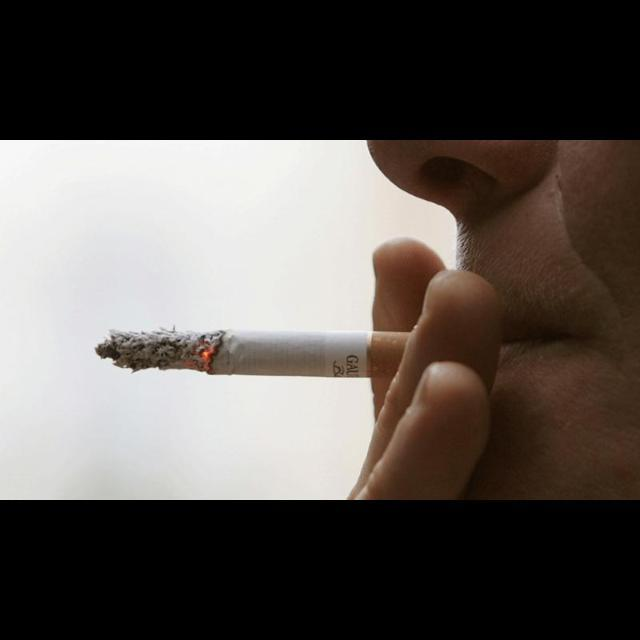rokok: (70, 299, 420, 396)
